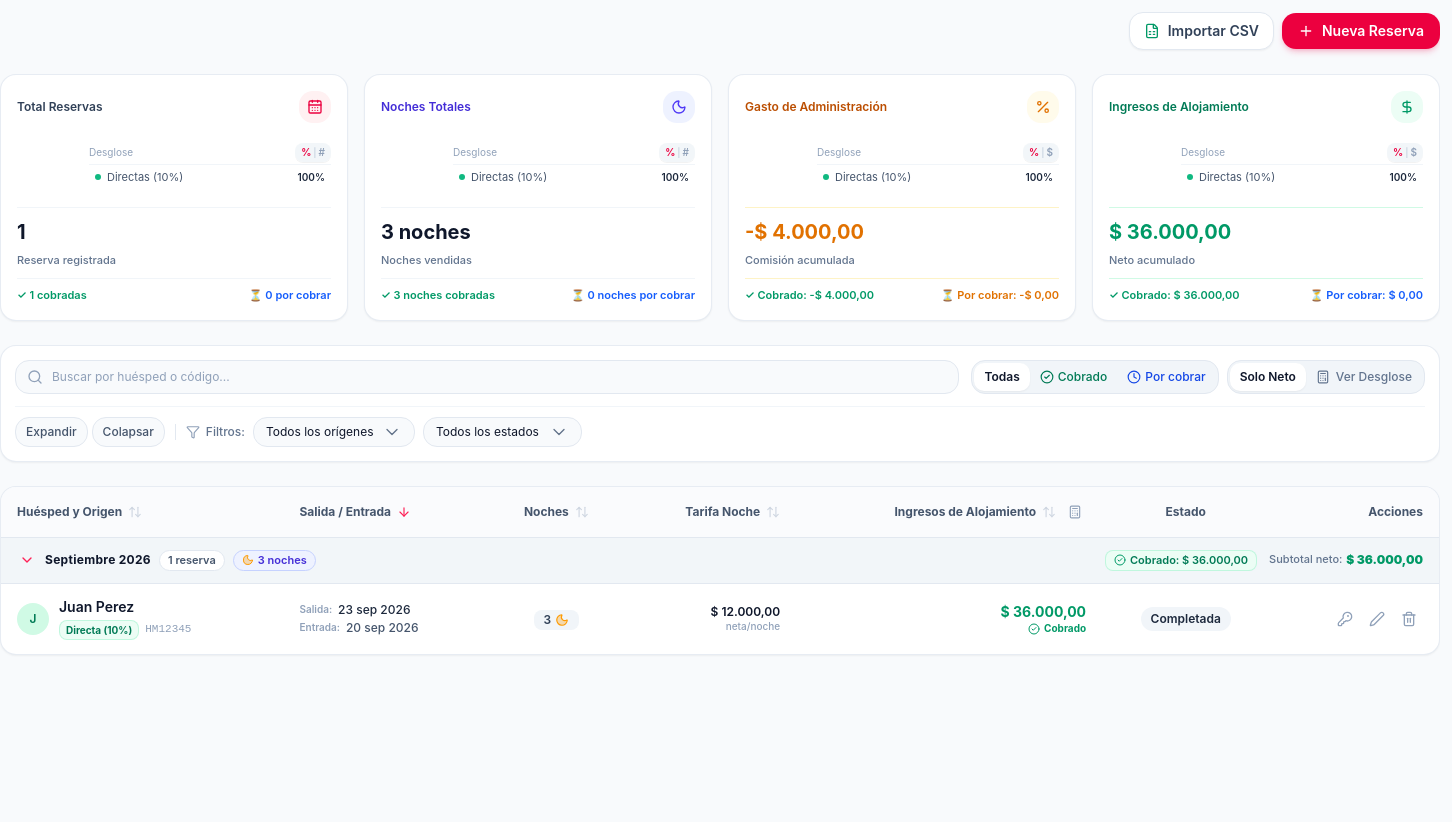
Test: Bookings Route - Revenue Breakdown and Toggle › Search and Filter Controls in Bookings › filters bookings by guest name and clears input with the clear button
The image size is (1452, 822).
Expected: the text "Juan Perez" is shown, [59,598,134,615]
Type "Inexistente" into the field with placeholder "Buscar por huésped o código..." at (487, 376), box [15,360,960,394]
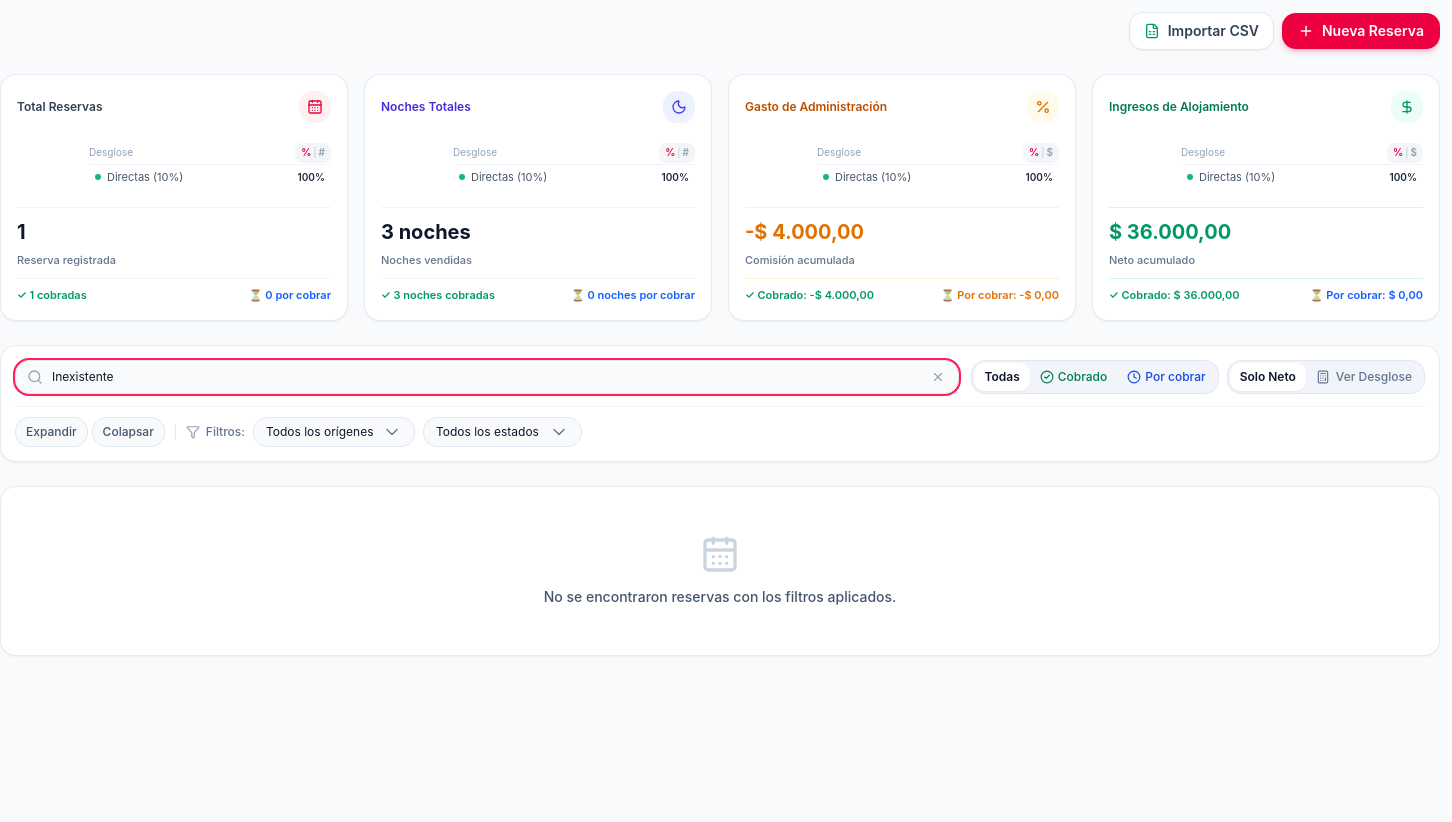
Now the text "Juan Perez" is gone
Now the text "No se encontraron reservas con los filtros aplicados." is shown, box [544,588,896,604]
Click the button titled "Limpiar búsqueda" at (938, 376), box [928,366,950,388]
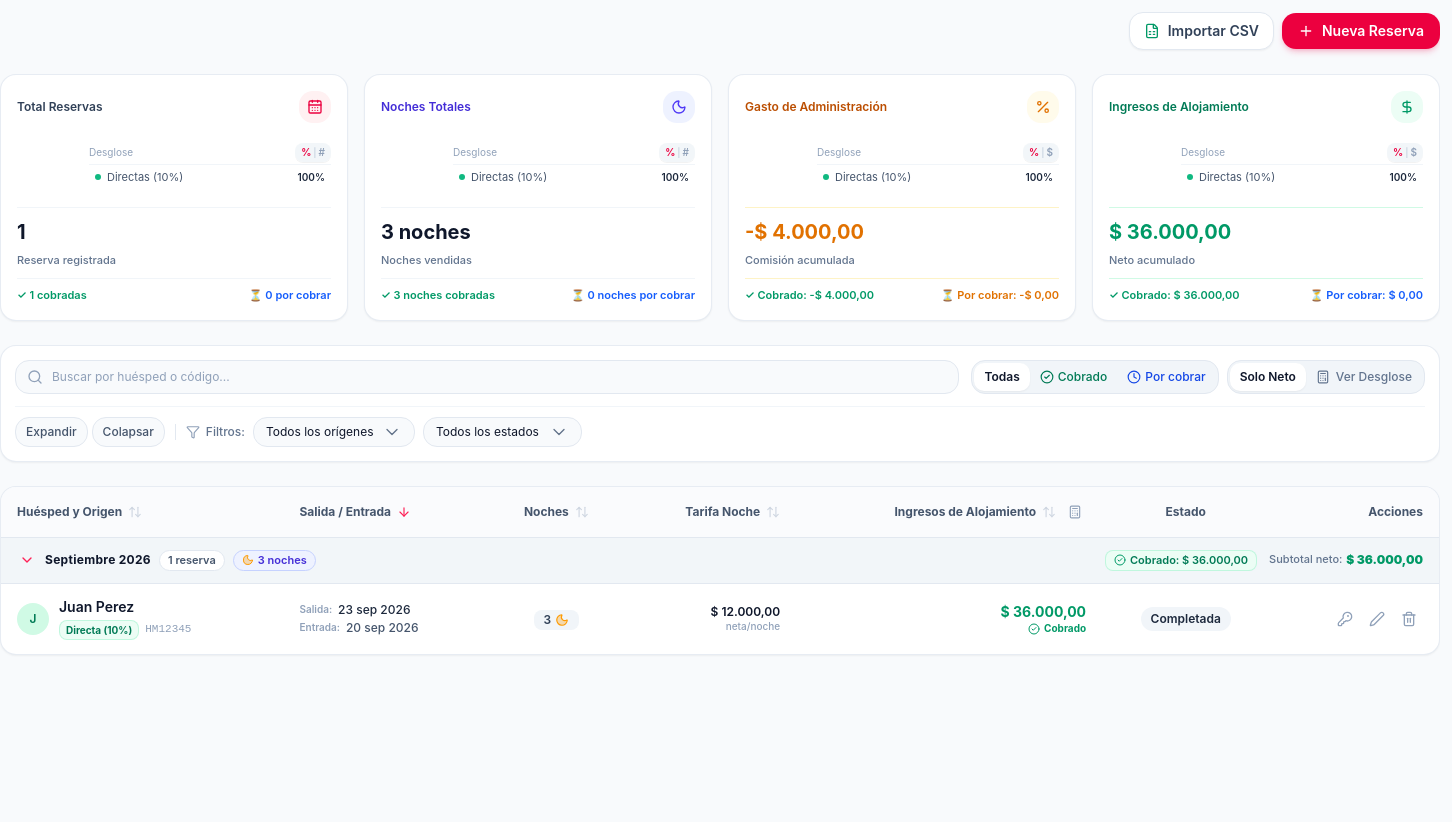
Now the text "Juan Perez" is shown, box [59,598,134,615]
